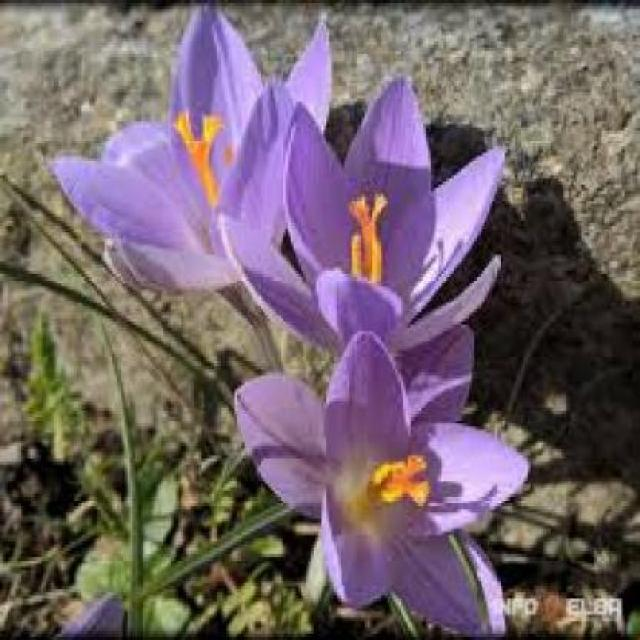Flower: (226, 332, 526, 638), (37, 1, 334, 304), (224, 82, 516, 372)
